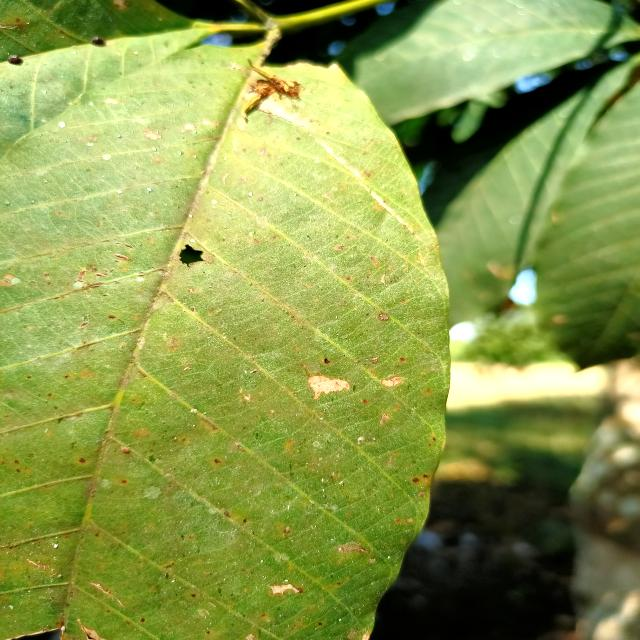Colletotrichum: (378, 312, 389, 322), (370, 356, 380, 364), (213, 458, 220, 464), (412, 478, 420, 483), (79, 458, 87, 463), (324, 358, 330, 364), (242, 518, 248, 522), (140, 618, 145, 622), (191, 593, 196, 597), (318, 622, 322, 626), (106, 610, 111, 612)
Leaf-Blight: (308, 376, 349, 400), (269, 584, 299, 596), (381, 377, 400, 386)
